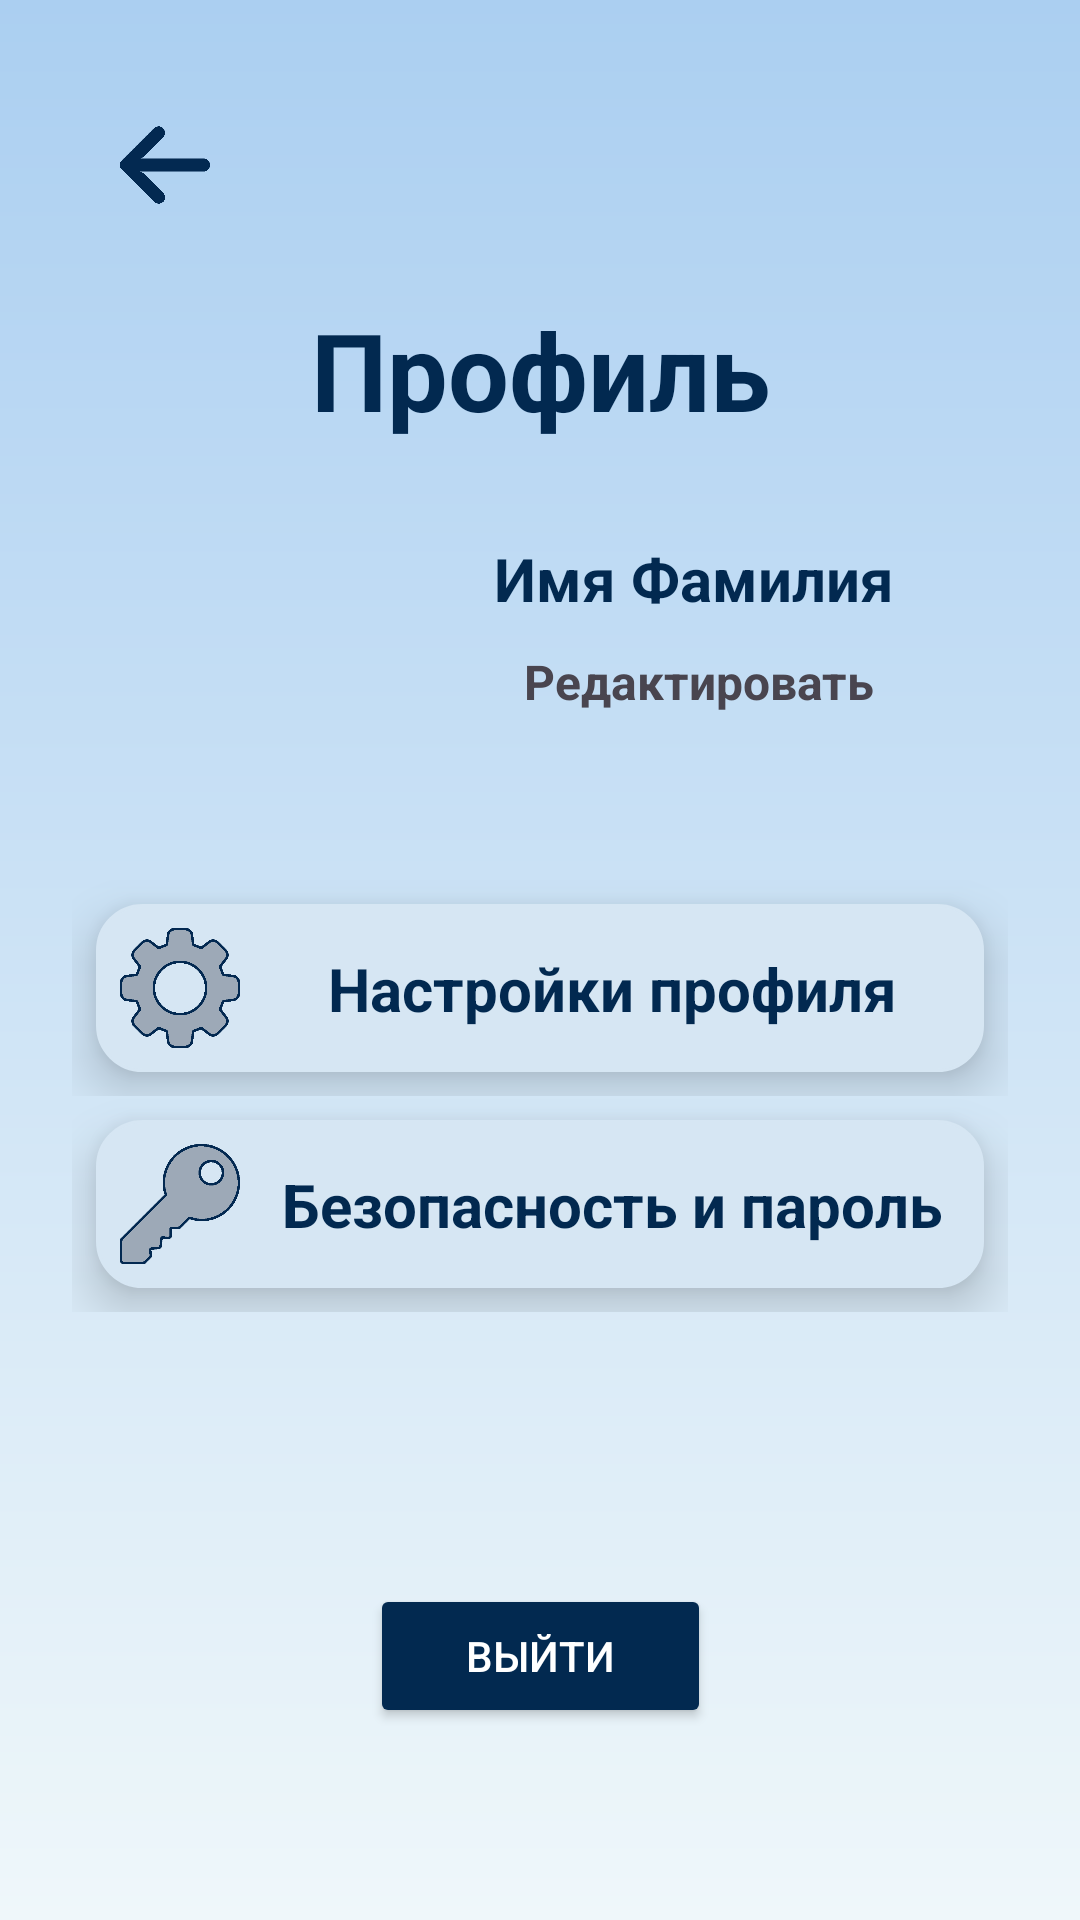

Screen size 1080x1920. Icon name, then its box in pixels as [x1,y1,x2,y2]:
arrow: [120,126,210,204]
key: [120,1144,240,1264]
settings: [120,928,240,1048]
